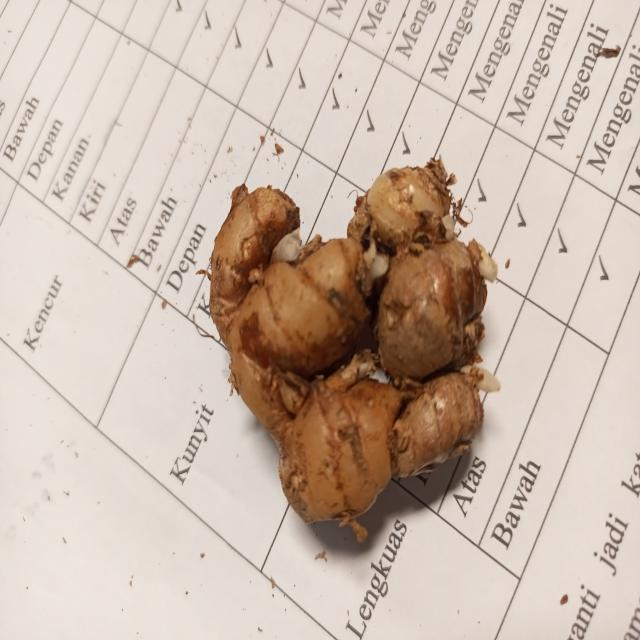ginger: (215, 174, 482, 514)
